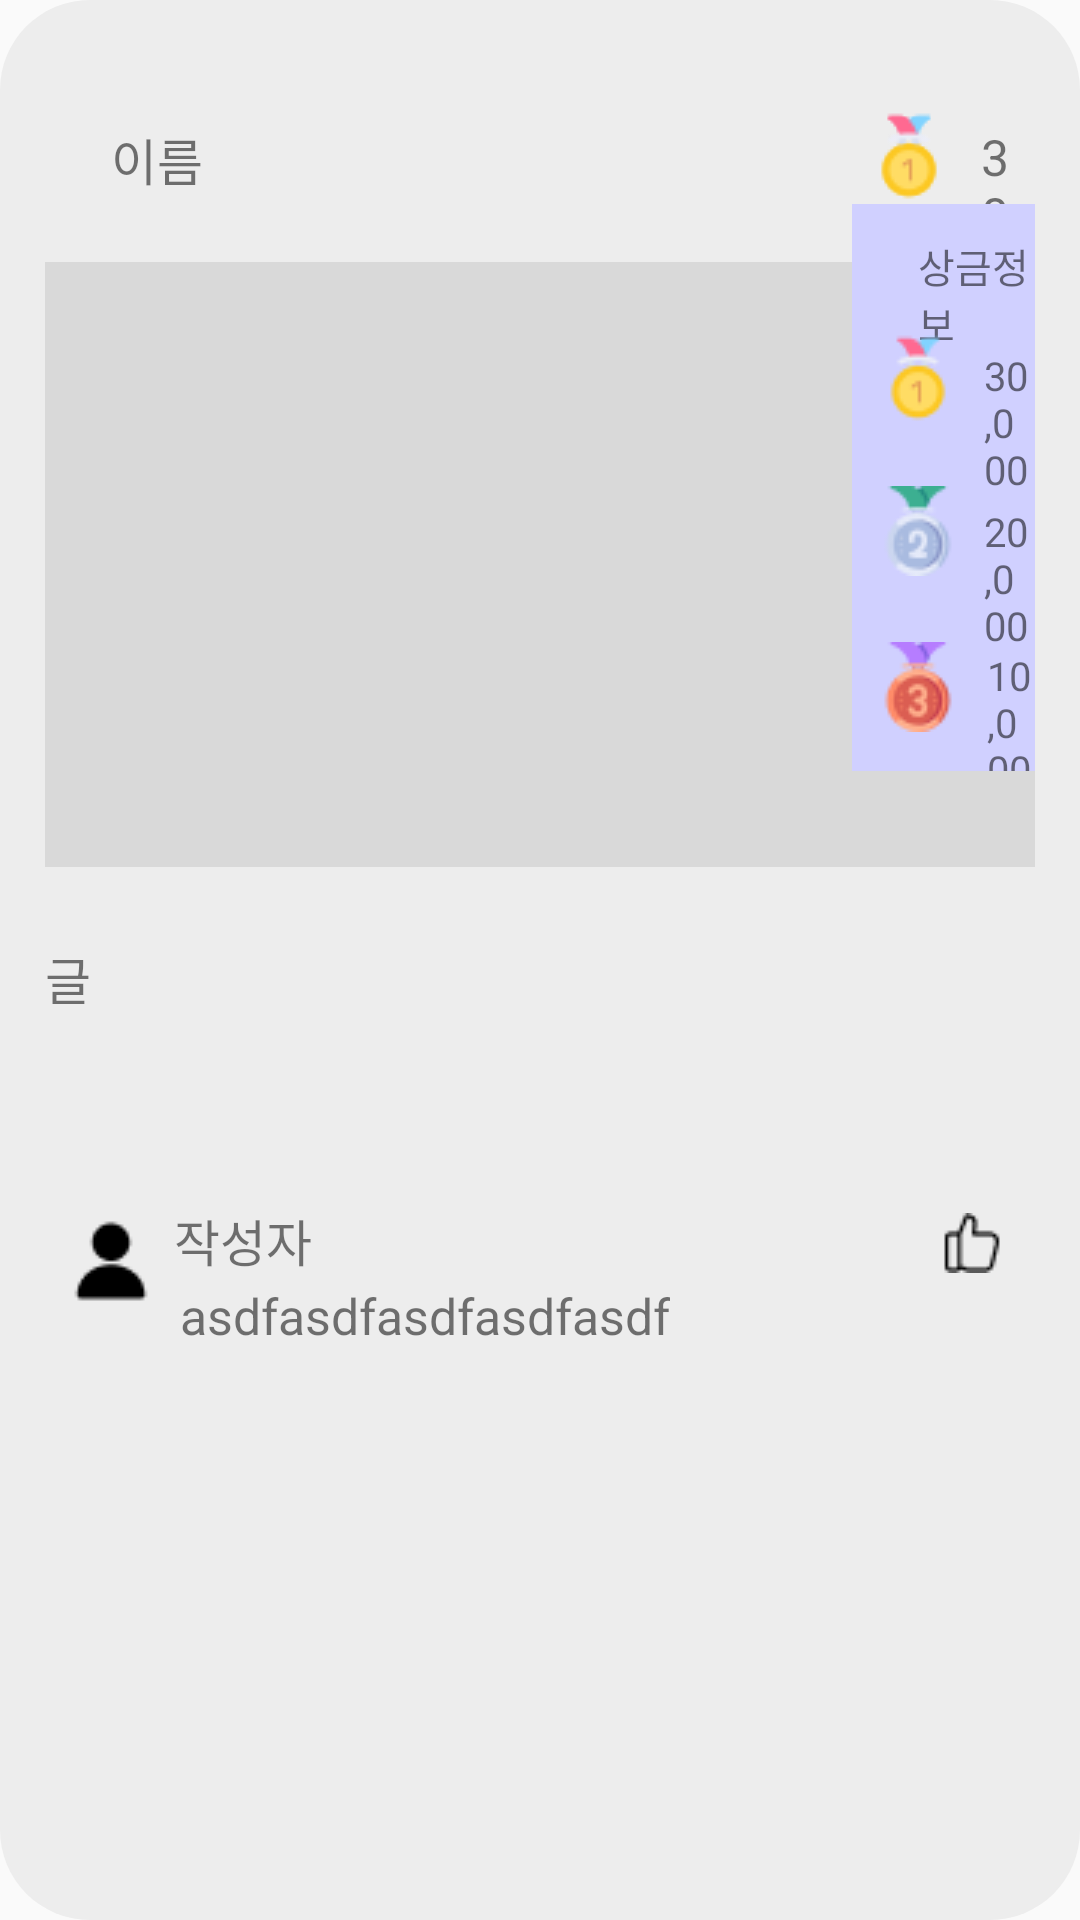

Locate icon controls on the screen. Image size 1080×1920, boxes as (x1, y1, x2, y2).
like it: (944, 1213, 1000, 1273)
user profile: (75, 1221, 147, 1301)
